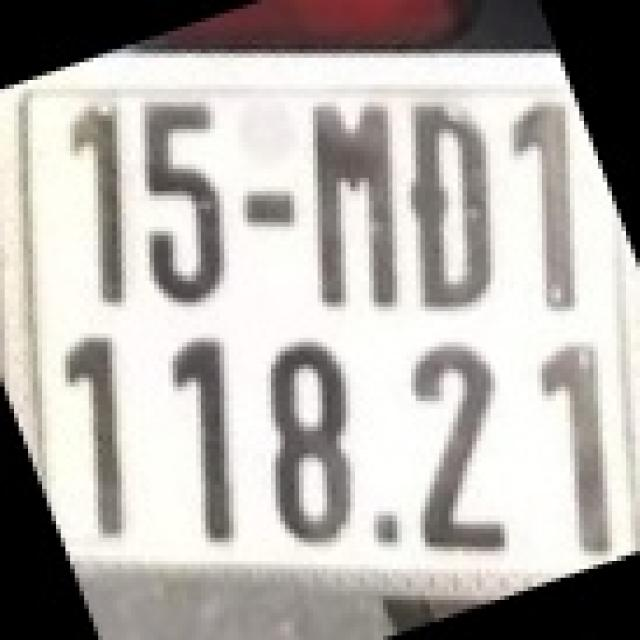0: (406, 98, 496, 311)
1: (532, 342, 622, 551), (168, 333, 243, 547), (61, 333, 135, 542), (509, 102, 584, 307), (70, 107, 131, 302)
2: (406, 342, 514, 556)
5: (140, 102, 224, 302)
8: (266, 338, 355, 546)
M: (301, 93, 404, 311)
